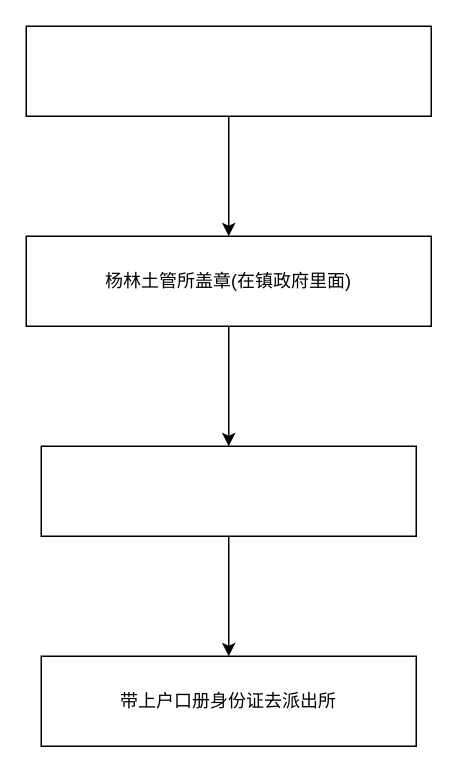
This 458x773 diagram has some shape labels left out. The box of each missing label's shape, as (x1, y1, x2, y2) in pixels:
准备材料: 1.住房手续(用老房子找村上开一个证明,盖章) 2.分家协议: (25, 25, 431, 116)
嵩明国土资源局盖章(用导航去): (40, 445, 416, 536)
